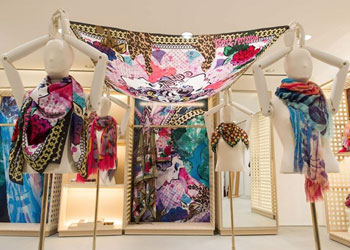Not_Face: (41, 39, 72, 74), (287, 47, 313, 80)
